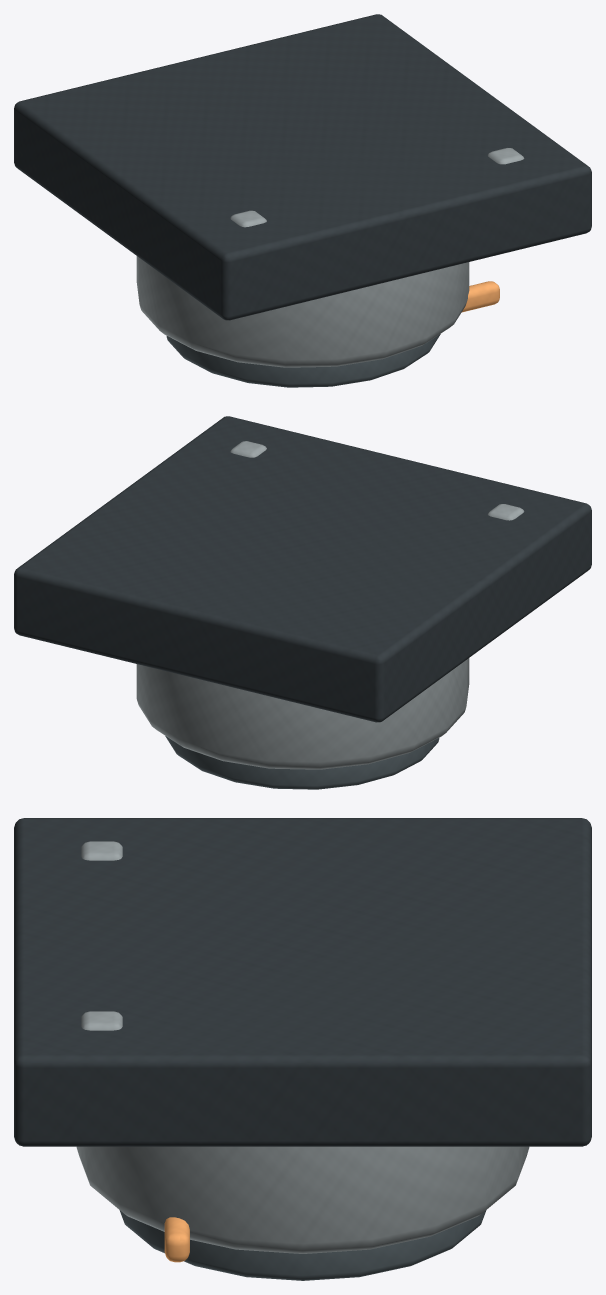
File: CeilingSpeaker.glb
The picture shows the model from 3 angles, top to bottom: view 1: azimuth 30°, elevation 25°; view 2: azimuth 150°, elevation 25°; view 3: azimuth 270°, elevation 25°; orthographic projection. The views are drawn at different scales.
Parts seen in each view (by area): view 1: CeilingSpeaker_Mesh; view 2: CeilingSpeaker_Mesh; view 3: CeilingSpeaker_Mesh.
Boxes of the visible parts, box(x1,y1,x2,y2) form: CeilingSpeaker_Mesh: box(14, 14, 591, 387); CeilingSpeaker_Mesh: box(14, 416, 591, 789); CeilingSpeaker_Mesh: box(14, 818, 591, 1280).
Bounding box in the file's own units: 0.46 × 0.2665 × 0.46.
5 materials, 5 textured.
